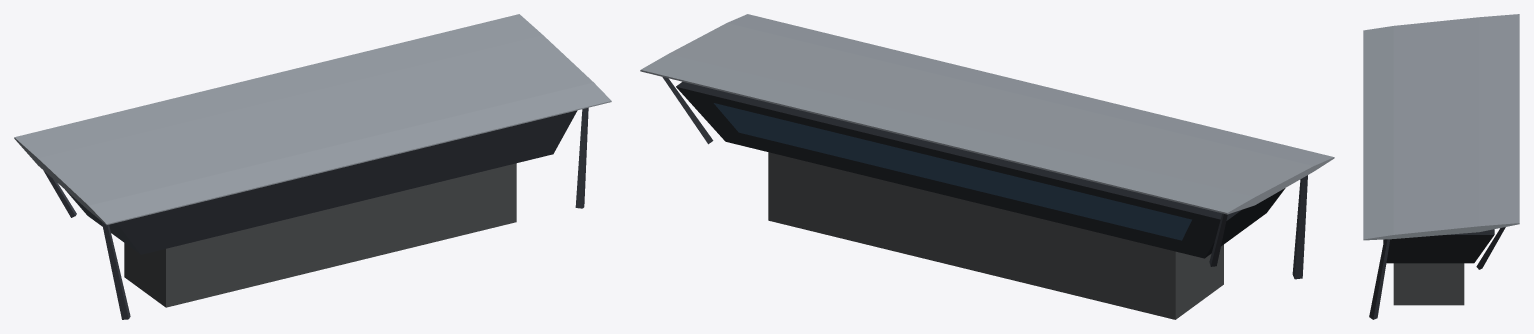
File: voestalpine_wing.glb
3 renders of one model, left to right at view 1: azimuth 30°, elevation 25°; view 2: azimuth 150°, elevation 25°; view 3: azimuth 270°, elevation 25°, orthographic. The views are drawn at different scales.
Visible parts, largest first — view 1: chunk_0_0; view 2: chunk_0_0; view 3: chunk_0_0.
Boxes of the visible parts, x1,y1,x2,y2 form: chunk_0_0: (14,14,611,319); chunk_0_0: (640,14,1334,319); chunk_0_0: (1363,14,1519,319).
Size of the model in its own units: 98 by 25 by 31.
